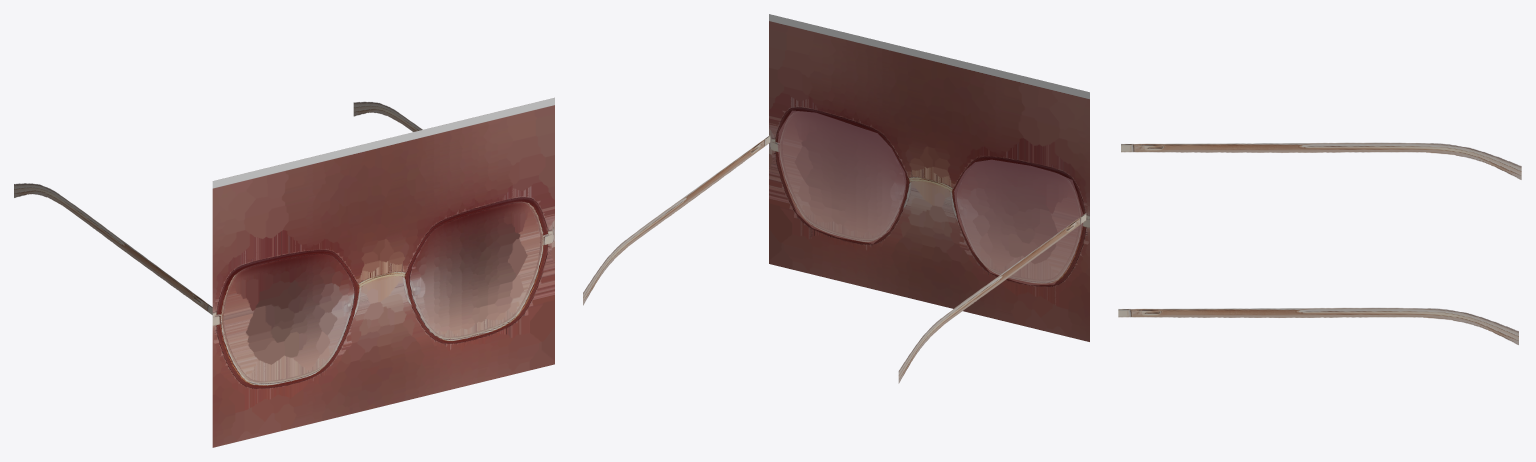
File: calvin-klein-ck21131s-f2-v2 (1).glb
3 renders of one model, left to right at view 1: azimuth 30°, elevation 25°; view 2: azimuth 150°, elevation 25°; view 3: azimuth 270°, elevation 25°, orthographic. The views are drawn at different scales.
Visible parts, largest first — view 1: Front, Right, Left; view 2: Front, Left-Lens, Right-Lens, Right, Left; view 3: Right, Left.
Part boxes in pixels (box(x1,y1,x2,y2)): Front: box(212, 97, 554, 447); Right: box(14, 183, 212, 314); Left: box(353, 101, 553, 234); Front: box(769, 14, 1089, 341); Left-Lens: box(777, 110, 906, 243); Right-Lens: box(954, 159, 1083, 285); Right: box(898, 213, 1086, 383); Left: box(583, 135, 770, 305); Right: box(1121, 142, 1521, 179); Left: box(1118, 307, 1518, 344).
Bounding box in the file's own units: 146 × 109 × 149.
3 materials, 3 textured.
